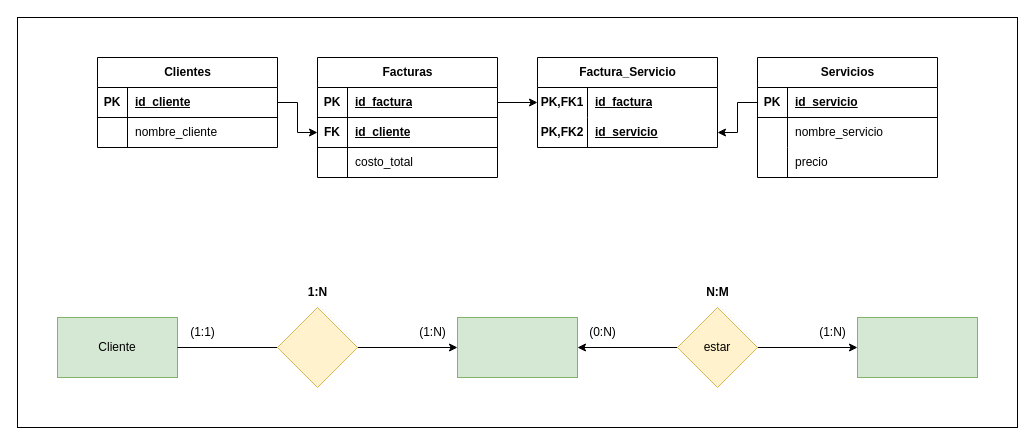
The diagram is 1035 pixels wide and 445 high, and some of its shapes have lost their labels. The shapes that lost their labels are listed below. From the top down, each one's centre as x and y in pixels, then its label:
At (317,347): "pagar".
At (517,347): "Factura".
At (917,347): "Servicio".
